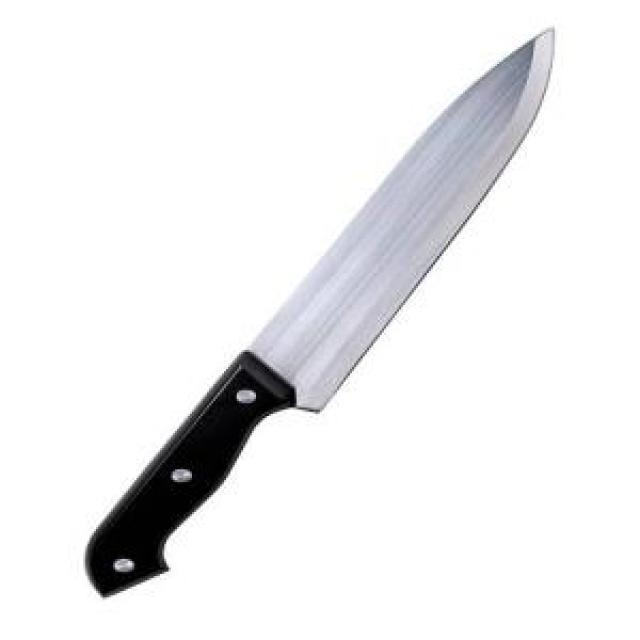knife: (72, 23, 559, 600)
